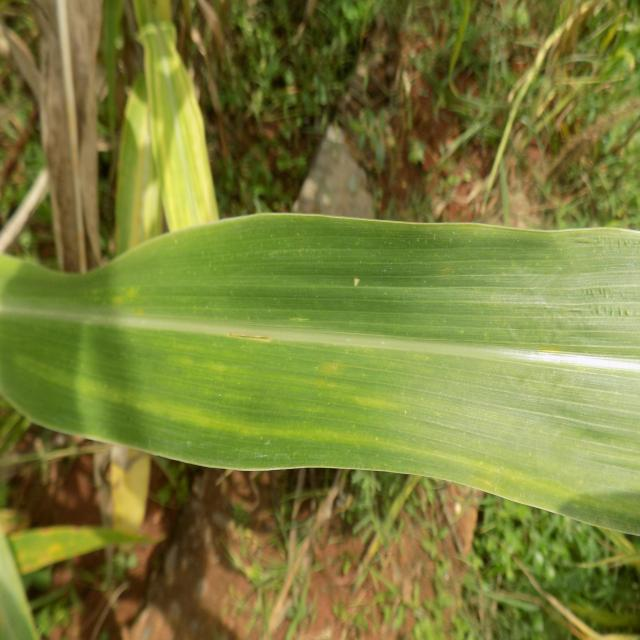millet_healthy: (0, 221, 640, 538), (118, 2, 217, 255)
